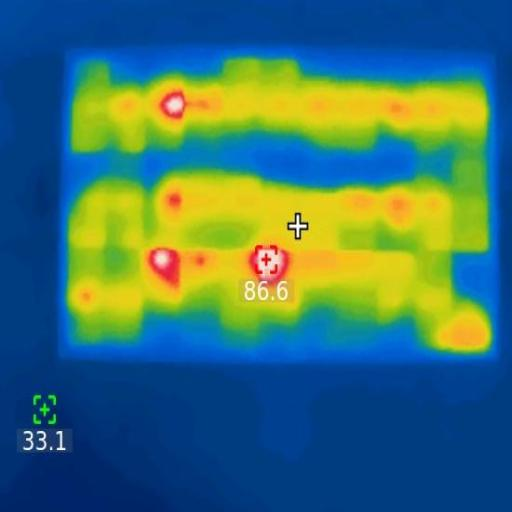hotspot: (251, 244, 286, 282), (152, 244, 176, 285), (160, 93, 187, 118), (170, 192, 182, 212)
